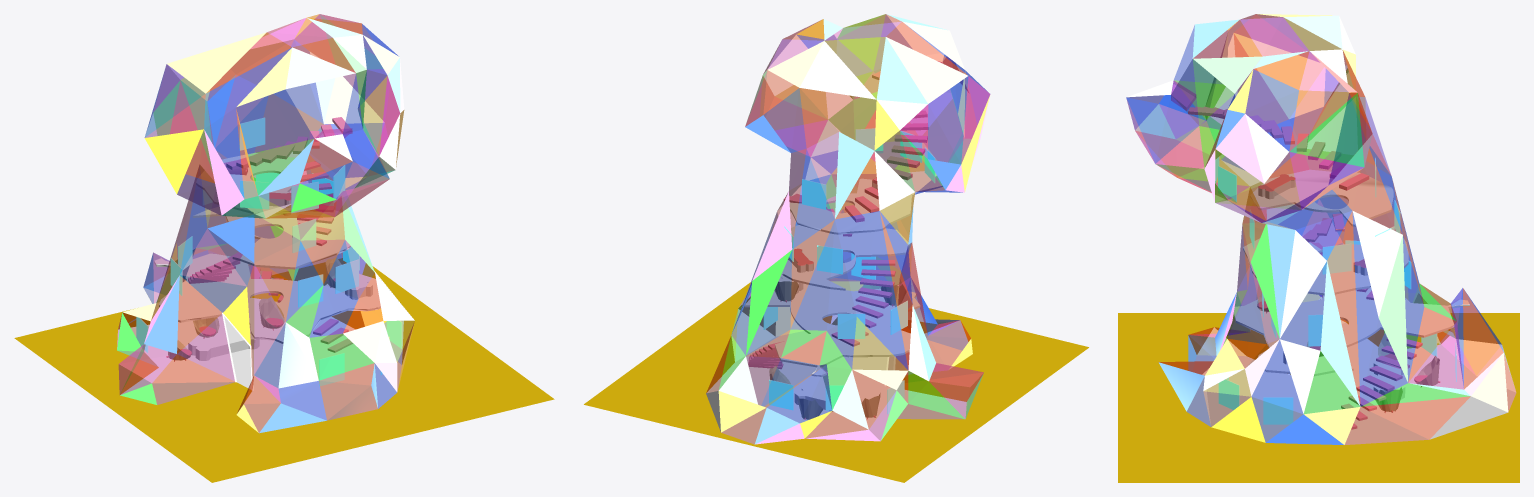
File: 2022_02_05_haji_2228.glb
The picture shows the model from 3 angles, left to right: view 1: azimuth 30°, elevation 25°; view 2: azimuth 150°, elevation 25°; view 3: azimuth 270°, elevation 25°; orthographic projection. The views are drawn at different scales.
Parts seen in each view (by area): view 1: dog, ground, floor, monitor, chair, table; view 2: dog, ground, floor, monitor, chair, table; view 3: dog, ground, floor, monitor, chair, chair_bone, table, slope.
Part boxes in pixels (bbox=[...]): dog: bbox=[117, 14, 414, 433]; ground: bbox=[14, 258, 554, 482]; floor: bbox=[154, 117, 380, 352]; monitor: bbox=[136, 117, 402, 385]; chair: bbox=[166, 257, 341, 361]; table: bbox=[188, 279, 372, 360]; dog: bbox=[706, 14, 990, 444]; ground: bbox=[584, 282, 1088, 482]; floor: bbox=[745, 71, 928, 376]; monitor: bbox=[763, 128, 935, 413]; chair: bbox=[769, 281, 906, 419]; table: bbox=[778, 276, 861, 411]; dog: bbox=[1126, 14, 1516, 445]; ground: bbox=[1118, 313, 1519, 482]; floor: bbox=[1188, 106, 1469, 429]; monitor: bbox=[1215, 151, 1456, 424]; chair: bbox=[1257, 293, 1440, 412]; chair_bone: bbox=[1258, 174, 1367, 275]; table: bbox=[1283, 344, 1405, 399]; slope: bbox=[1171, 81, 1196, 110].
Size of what is drawn, in the model's own units: 16 by 15.96 by 16.
